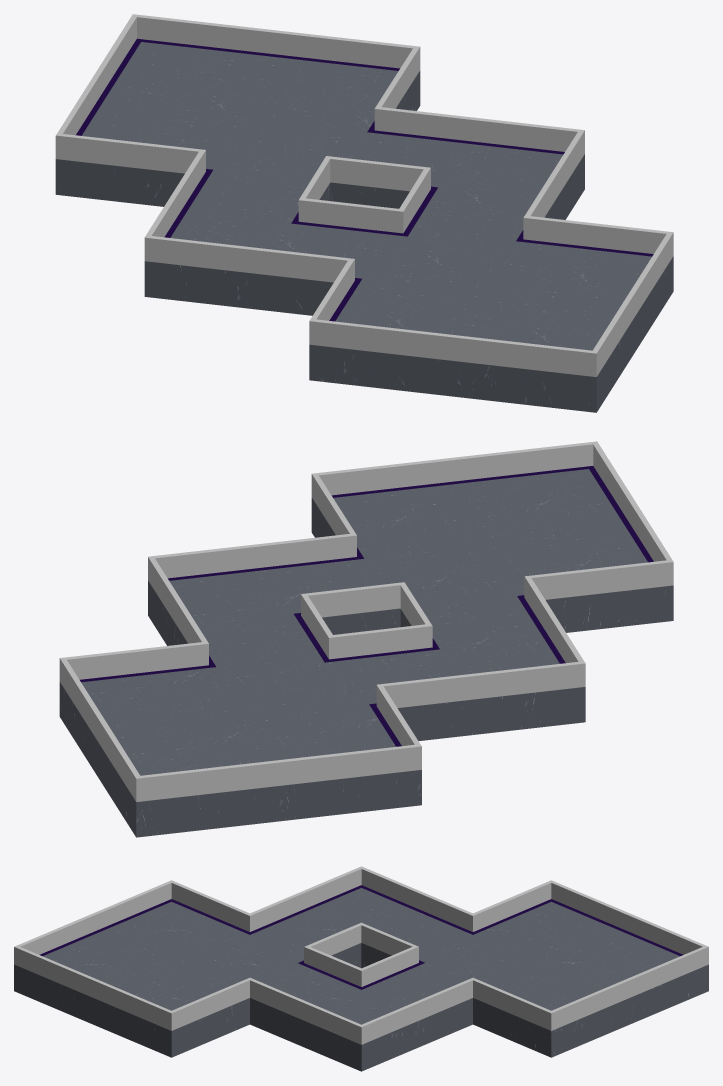
File: Battle_Stage 35.fbx
The picture shows the model from 3 angles, top to bottom: view 1: azimuth 30°, elevation 25°; view 2: azimuth 150°, elevation 25°; view 3: azimuth 270°, elevation 25°; orthographic projection. The views are drawn at different scales.
Visible parts, largest first — view 1: Cube_013, Cube_013.001, Cube_013.002; view 2: Cube_013, Cube_013.001, Cube_013.002; view 3: Cube_013, Cube_013.001, Cube_013.002.
Boxes of the visible parts, bbox=[...] form: Cube_013: bbox=[55, 42, 673, 412]; Cube_013.001: bbox=[55, 14, 673, 376]; Cube_013.002: bbox=[76, 38, 653, 321]; Cube_013: bbox=[59, 469, 673, 837]; Cube_013.001: bbox=[59, 441, 673, 801]; Cube_013.002: bbox=[80, 466, 653, 746]; Cube_013: bbox=[14, 888, 708, 1071]; Cube_013.001: bbox=[14, 866, 708, 1044]; Cube_013.002: bbox=[39, 885, 683, 989].
Bounding box in the file's own units: 4974 × 639 × 9073.
